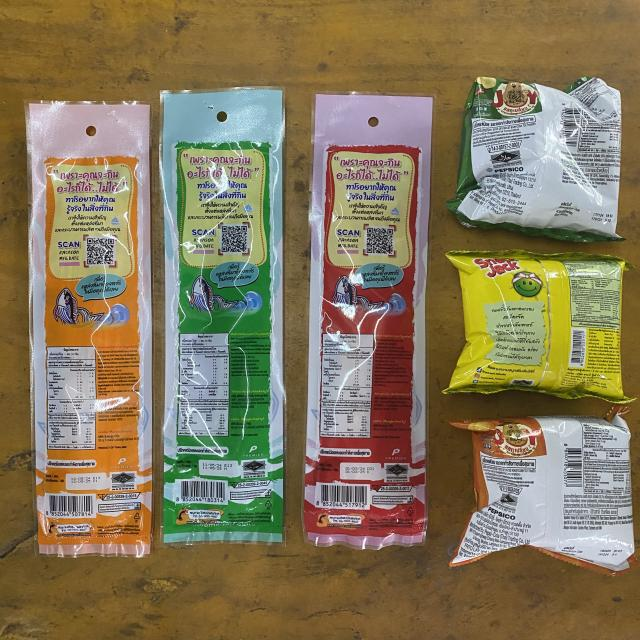plastik: (304, 94, 432, 549), (26, 102, 152, 556), (161, 88, 284, 544), (450, 415, 635, 575), (448, 76, 621, 241), (444, 250, 631, 402)
